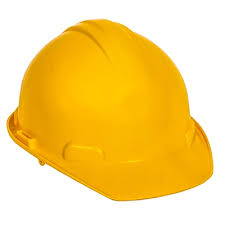Casco de seguridad: (7, 19, 212, 200)
